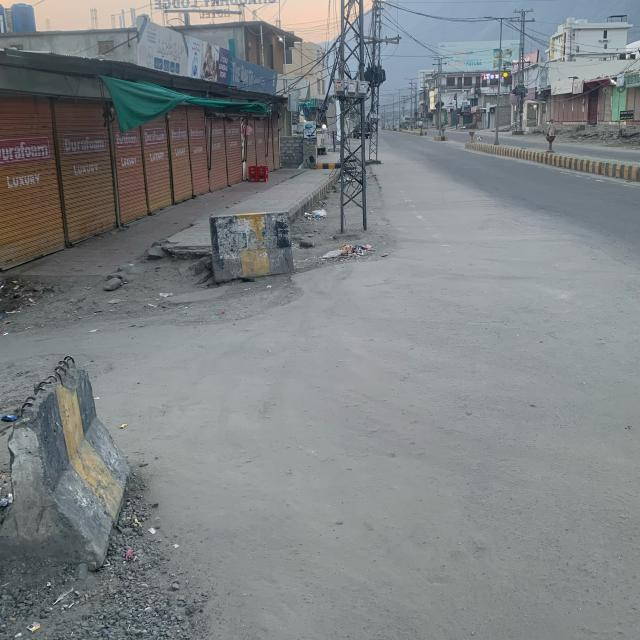Left-Turn: (19, 308, 513, 448)
straight: (383, 124, 640, 383)
